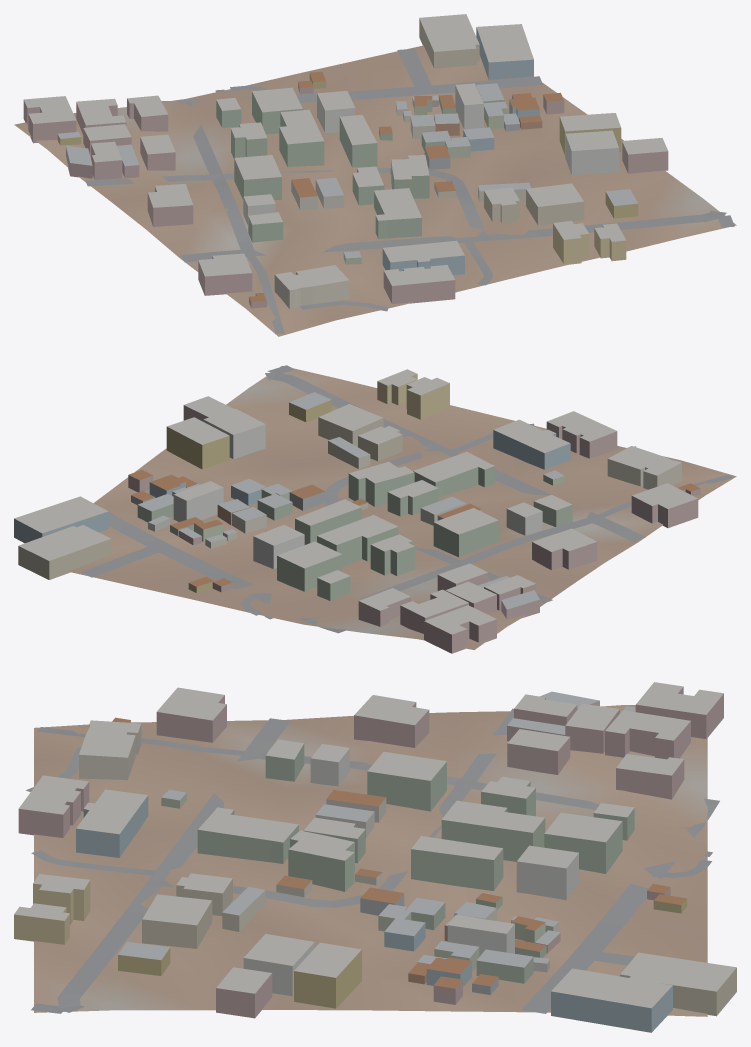
The picture shows the model from 3 angles, top to bottom: view 1: azimuth 30°, elevation 25°; view 2: azimuth 150°, elevation 25°; view 3: azimuth 270°, elevation 25°; orthographic projection. The views are drawn at different scales.
Parts seen in each view (by area): view 1: Lo; view 2: Lo; view 3: Lo.
Boxes of the visible parts, bbox=[...] form: Lo: bbox=[14, 14, 736, 336]; Lo: bbox=[14, 365, 736, 653]; Lo: bbox=[14, 682, 736, 1032].
Bounding box in the file's own units: 281 × 20.88 × 275.
